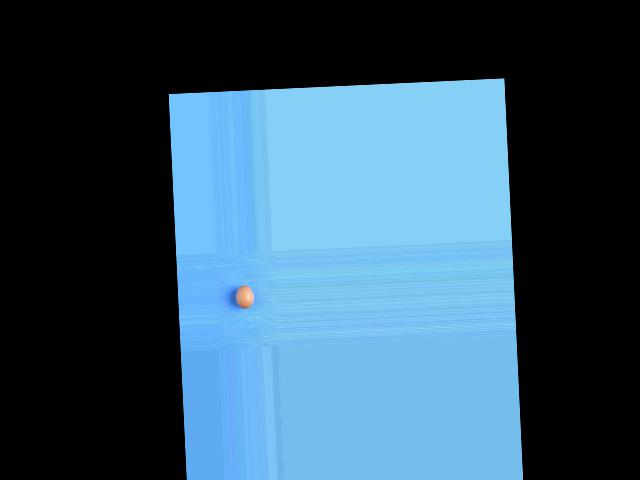egg: (234, 285, 254, 308)
